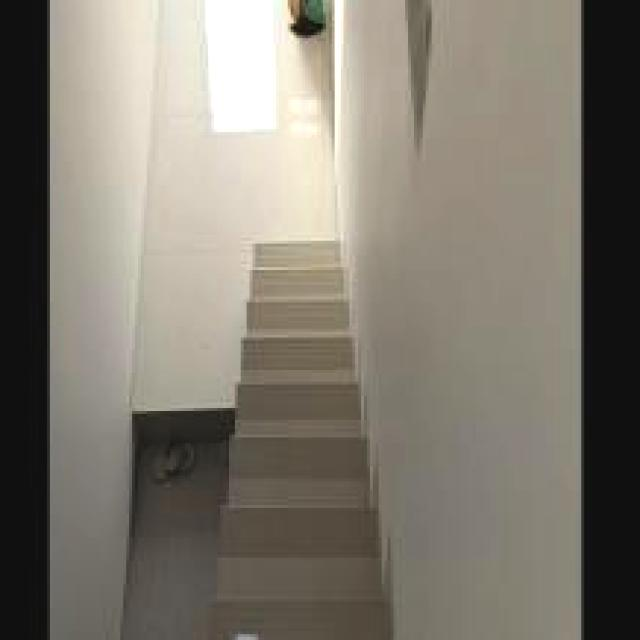downstair: (224, 212, 377, 640)
